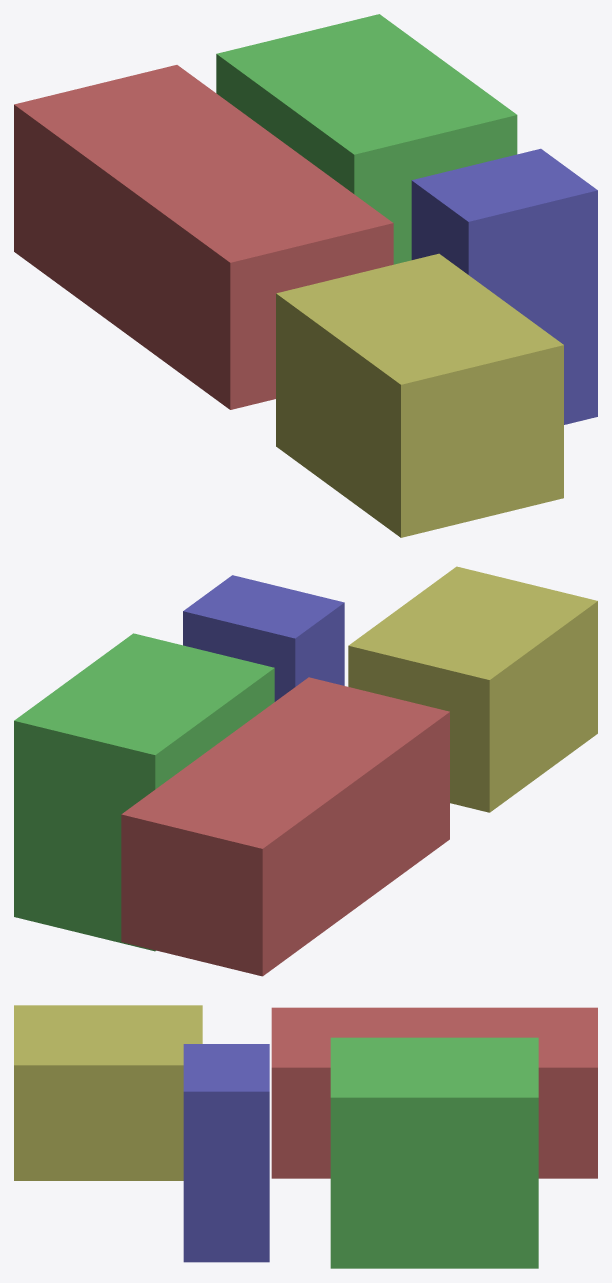
Rendered from Ladda ner pall_3.glb.
The picture shows the model from 3 angles, top to bottom: view 1: azimuth 30°, elevation 25°; view 2: azimuth 150°, elevation 25°; view 3: azimuth 270°, elevation 25°; orthographic projection. The views are drawn at different scales.
Visible parts, largest first — view 1: world; view 2: world; view 3: world.
Part boxes in pixels (left/top/right/bottom): world: left=14, top=14, right=597, bottom=537; world: left=14, top=566, right=597, bottom=976; world: left=14, top=1005, right=597, bottom=1268.
Bounding box in the file's own units: 1164 × 772 × 2392.
